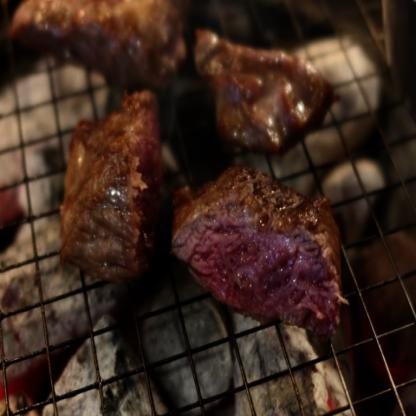Carne: (173, 159, 352, 342), (61, 87, 165, 284), (193, 23, 336, 158)
